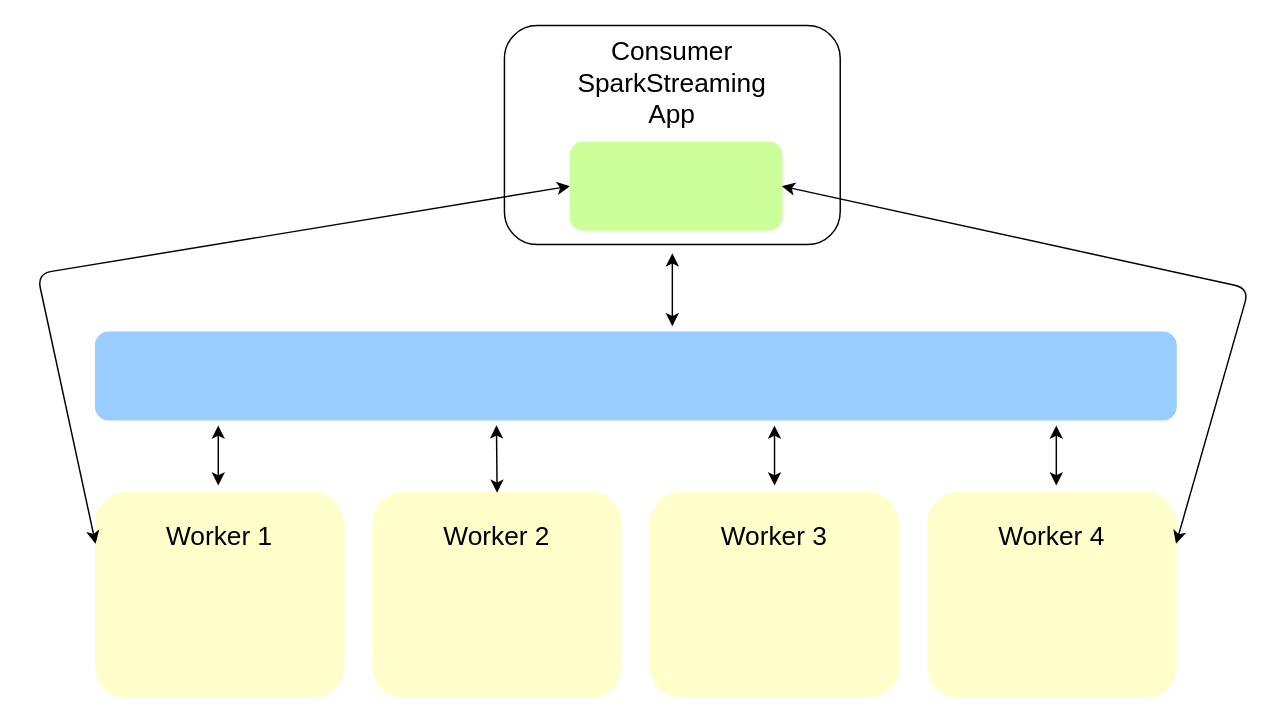
Image size: 1288x723. Some labels were removed from this diagram. Each missing label, with the box of its shape:
Cluster Manager: (94, 331, 1176, 420)
Spark Context: (569, 141, 782, 230)
